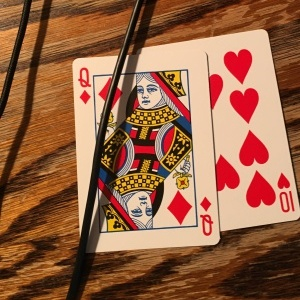card: (68, 52, 223, 248)
